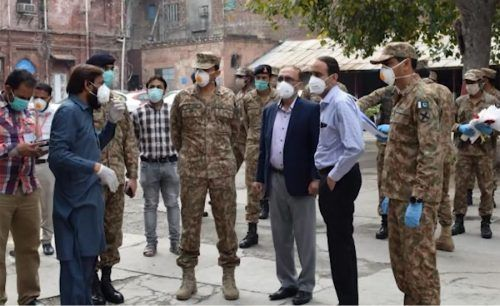uniform: (164, 54, 250, 271), (374, 37, 446, 282), (449, 68, 495, 225), (92, 90, 127, 276), (242, 74, 265, 242)
